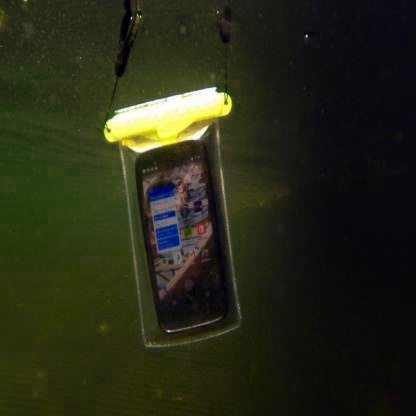cellphone: (136, 141, 230, 335)
